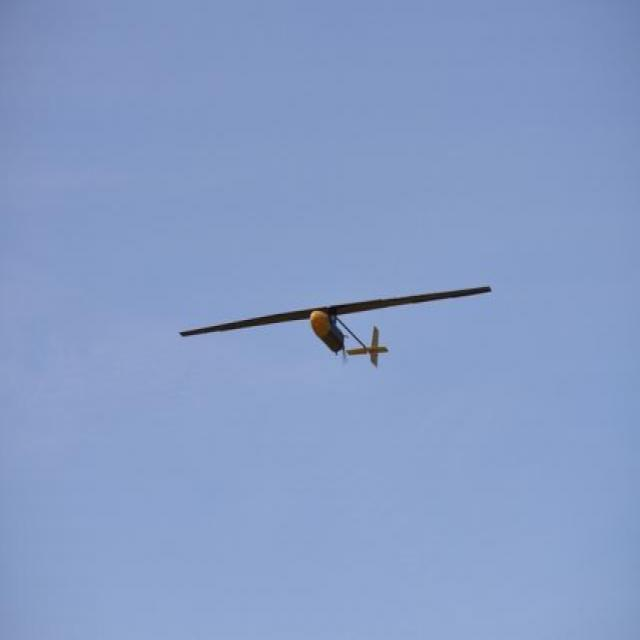UAV: (183, 278, 496, 366)
